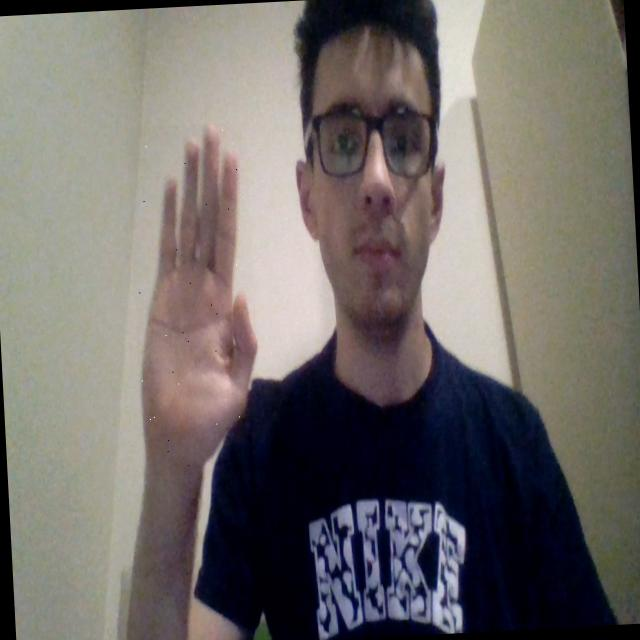hello: (126, 121, 264, 478)
